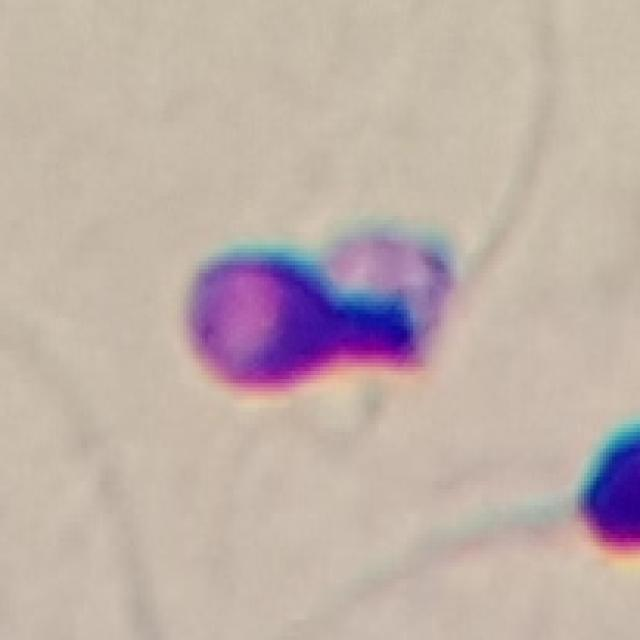abnormal sperm: (184, 176, 528, 394)
